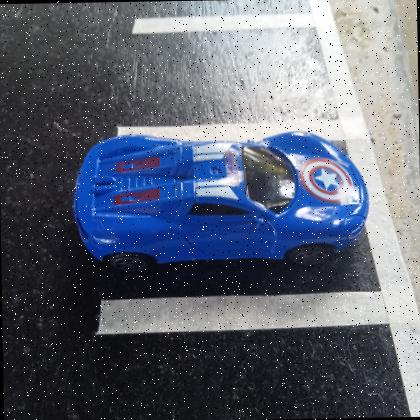Car: (72, 131, 369, 271)
